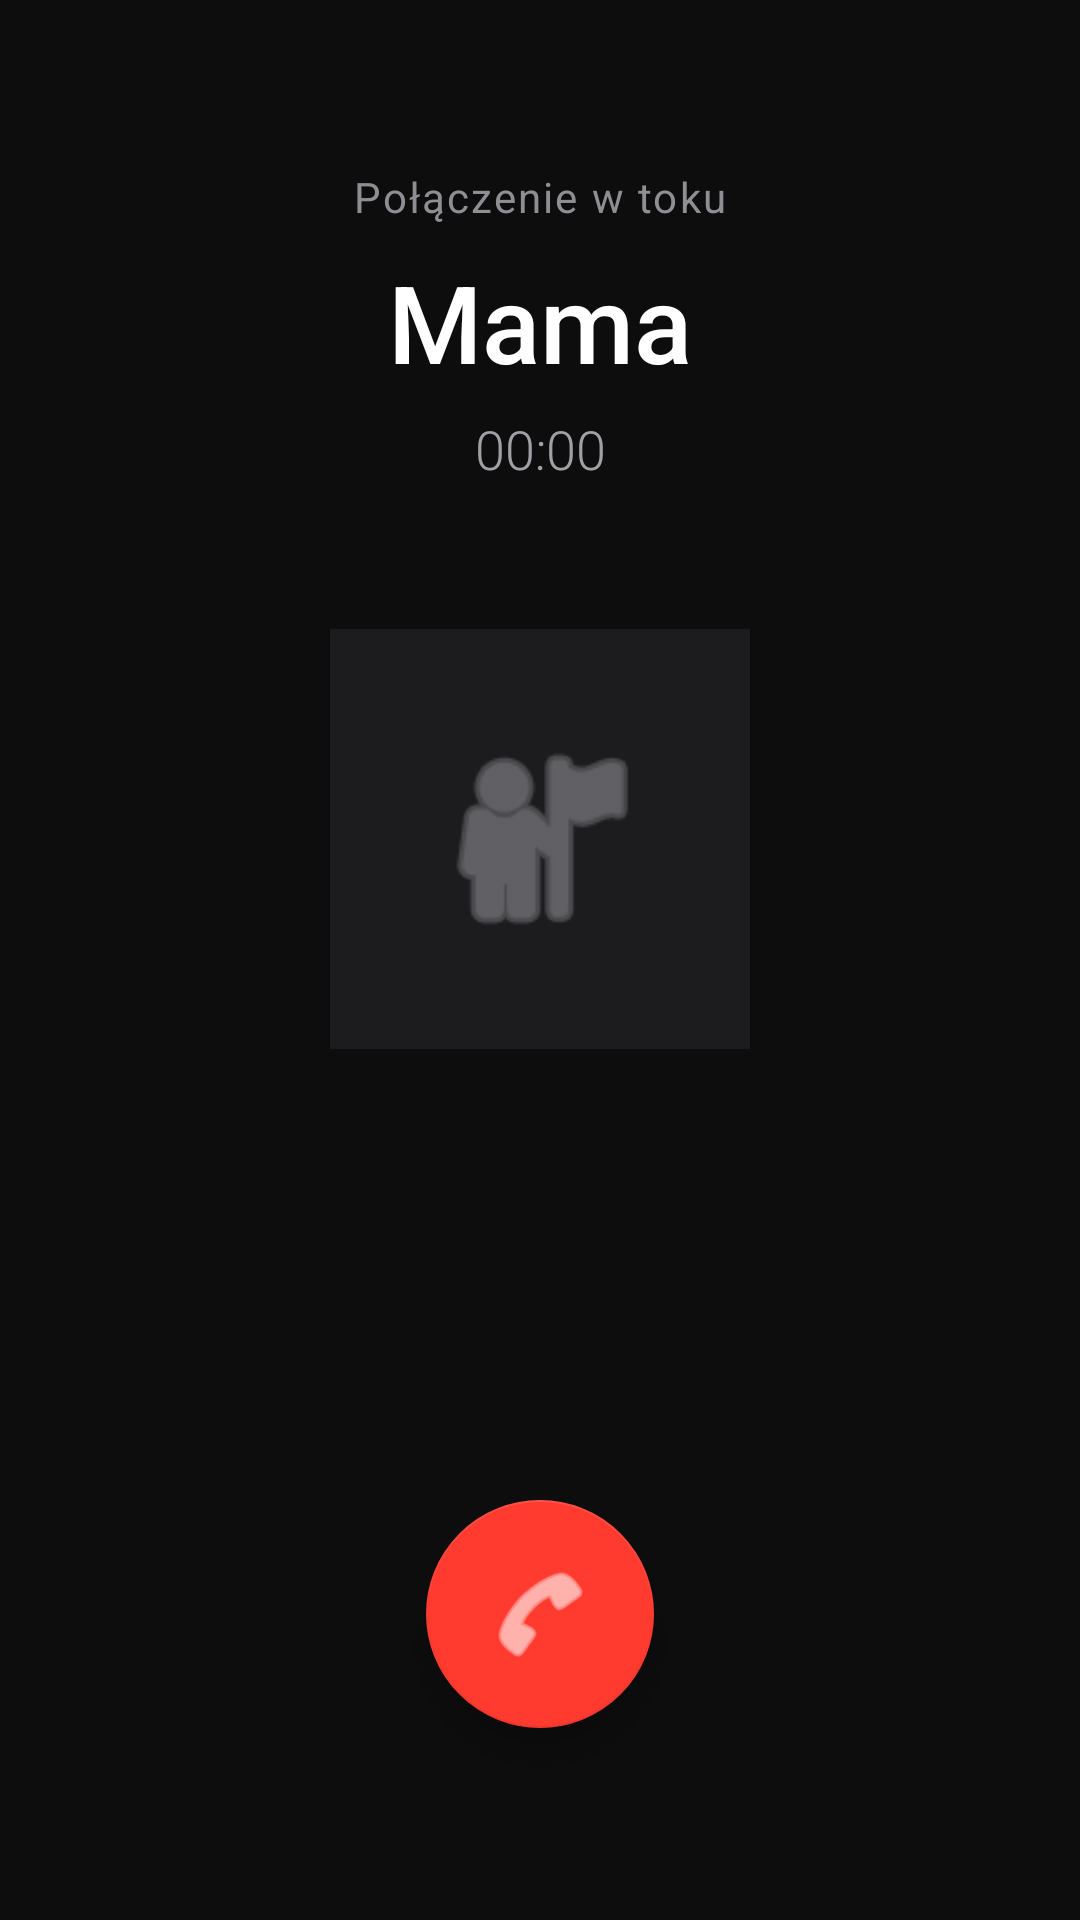

Screen size 1080x1920. Icon name, then its box in pixels as (x1, y1, x2, y2):
myplaces: (456, 753, 629, 925)
Rozłącz: (426, 1500, 654, 1728)
